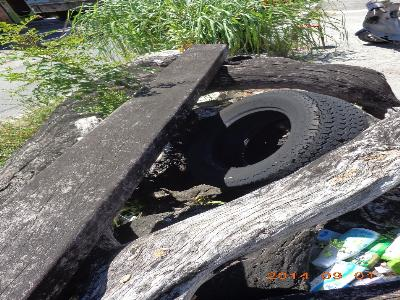bottle: (311, 223, 381, 269)
tire: (188, 88, 370, 199)
